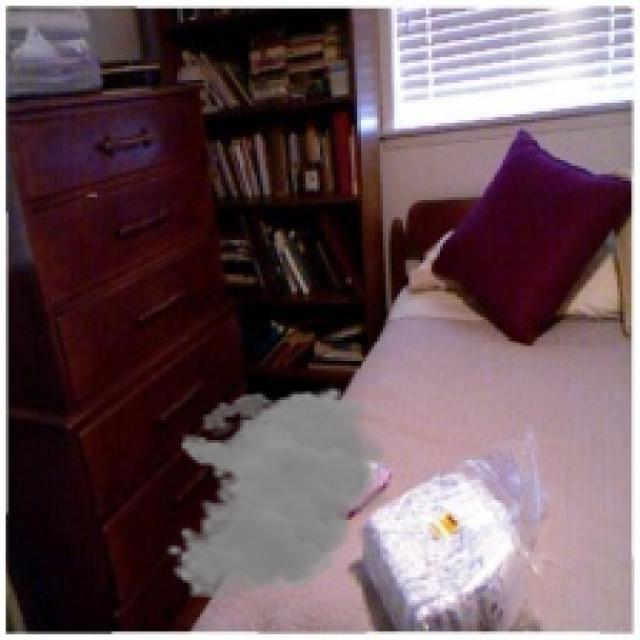Smoke: (166, 386, 397, 600)
